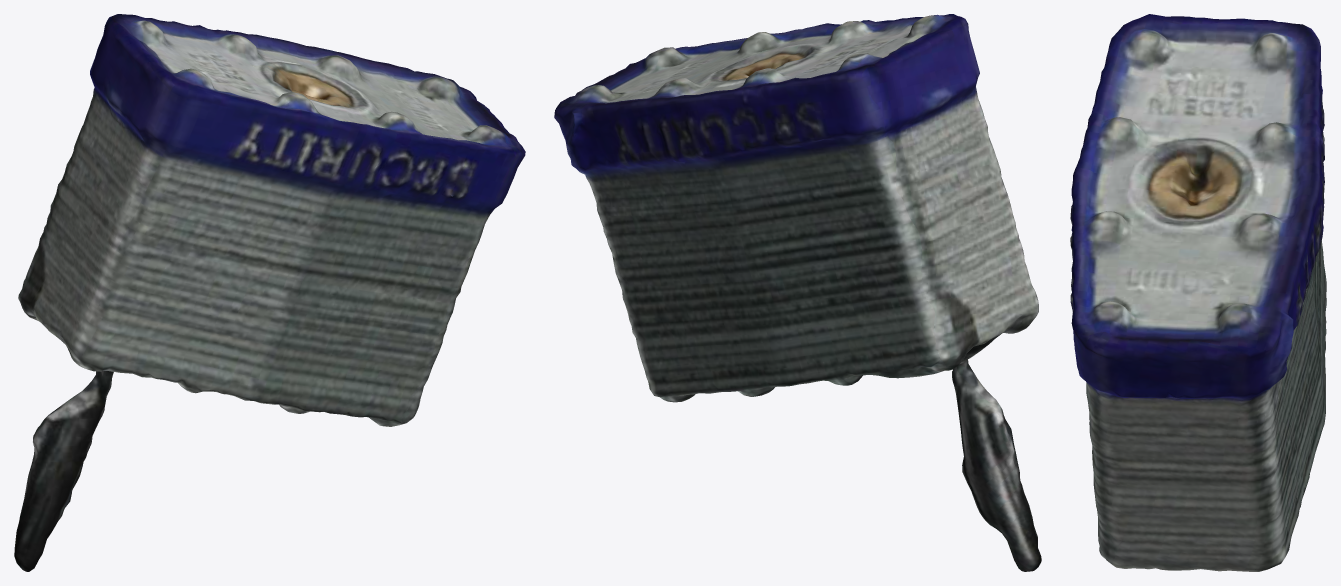
The model's file is ddg-ycb_038_padlock.glb.
3 views of the same model, side by side, from view 1: azimuth 30°, elevation 25°; view 2: azimuth 150°, elevation 25°; view 3: azimuth 270°, elevation 25° (orthographic). The views are drawn at different scales.
Parts seen in each view (by area): view 1: textured(Clone); view 2: textured(Clone); view 3: textured(Clone).
Part boxes in pixels (x1=…): textured(Clone): x1=14, y1=14, x2=525, y2=571; textured(Clone): x1=554, y1=14, x2=1041, y2=571; textured(Clone): x1=1070, y1=14, x2=1326, y2=571.
Size of the model in its own units: 1.4 by 1.42 by 0.6086.
1 material, 1 textured.
